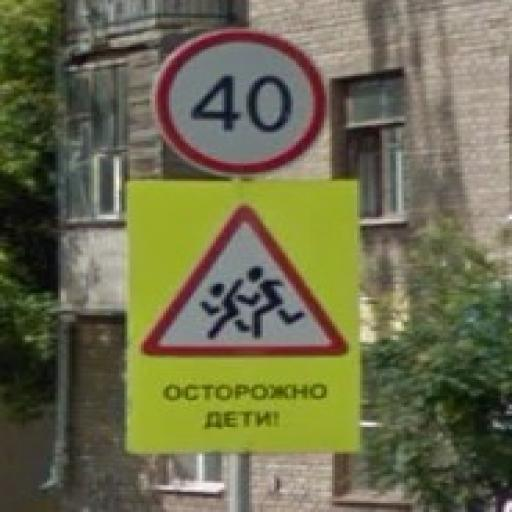traffic_sign: (142, 202, 350, 359), (153, 30, 328, 175)
